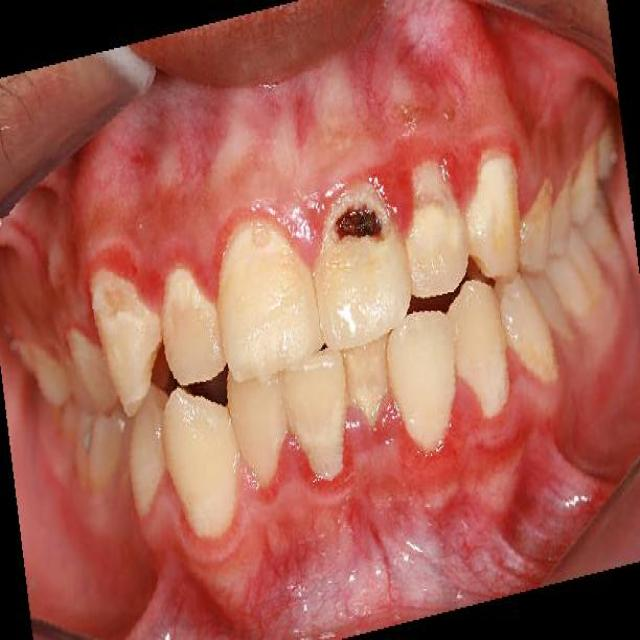caries: (328, 198, 387, 253)
